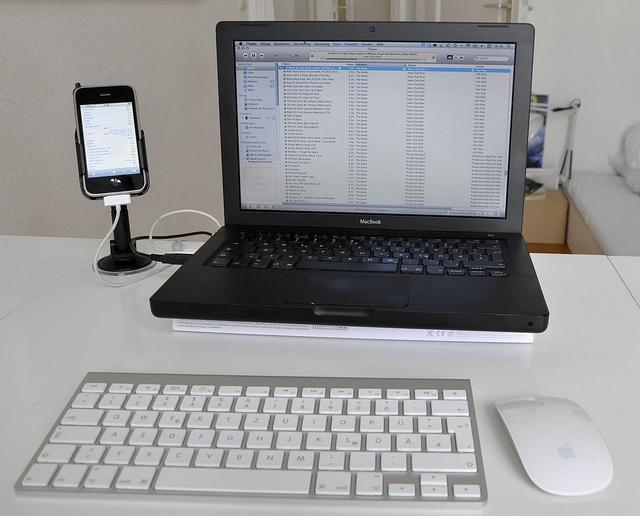phone: (67, 73, 154, 199)
tv: (206, 17, 540, 239)
